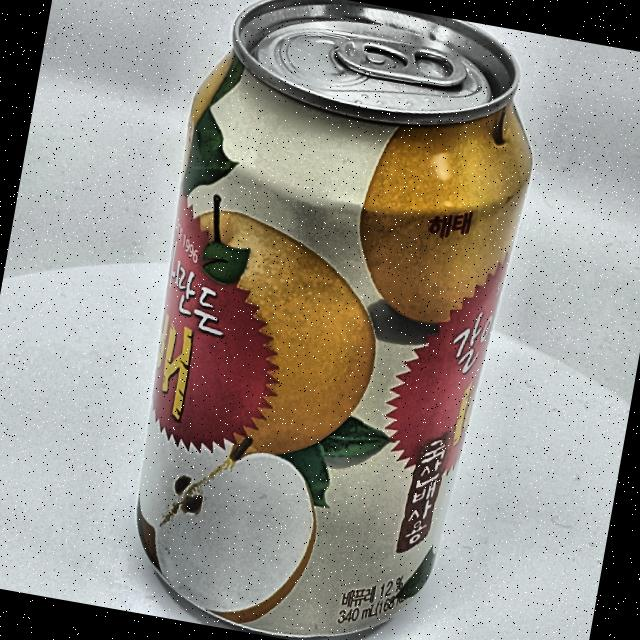galamandeunbae: (96, 0, 557, 640)
